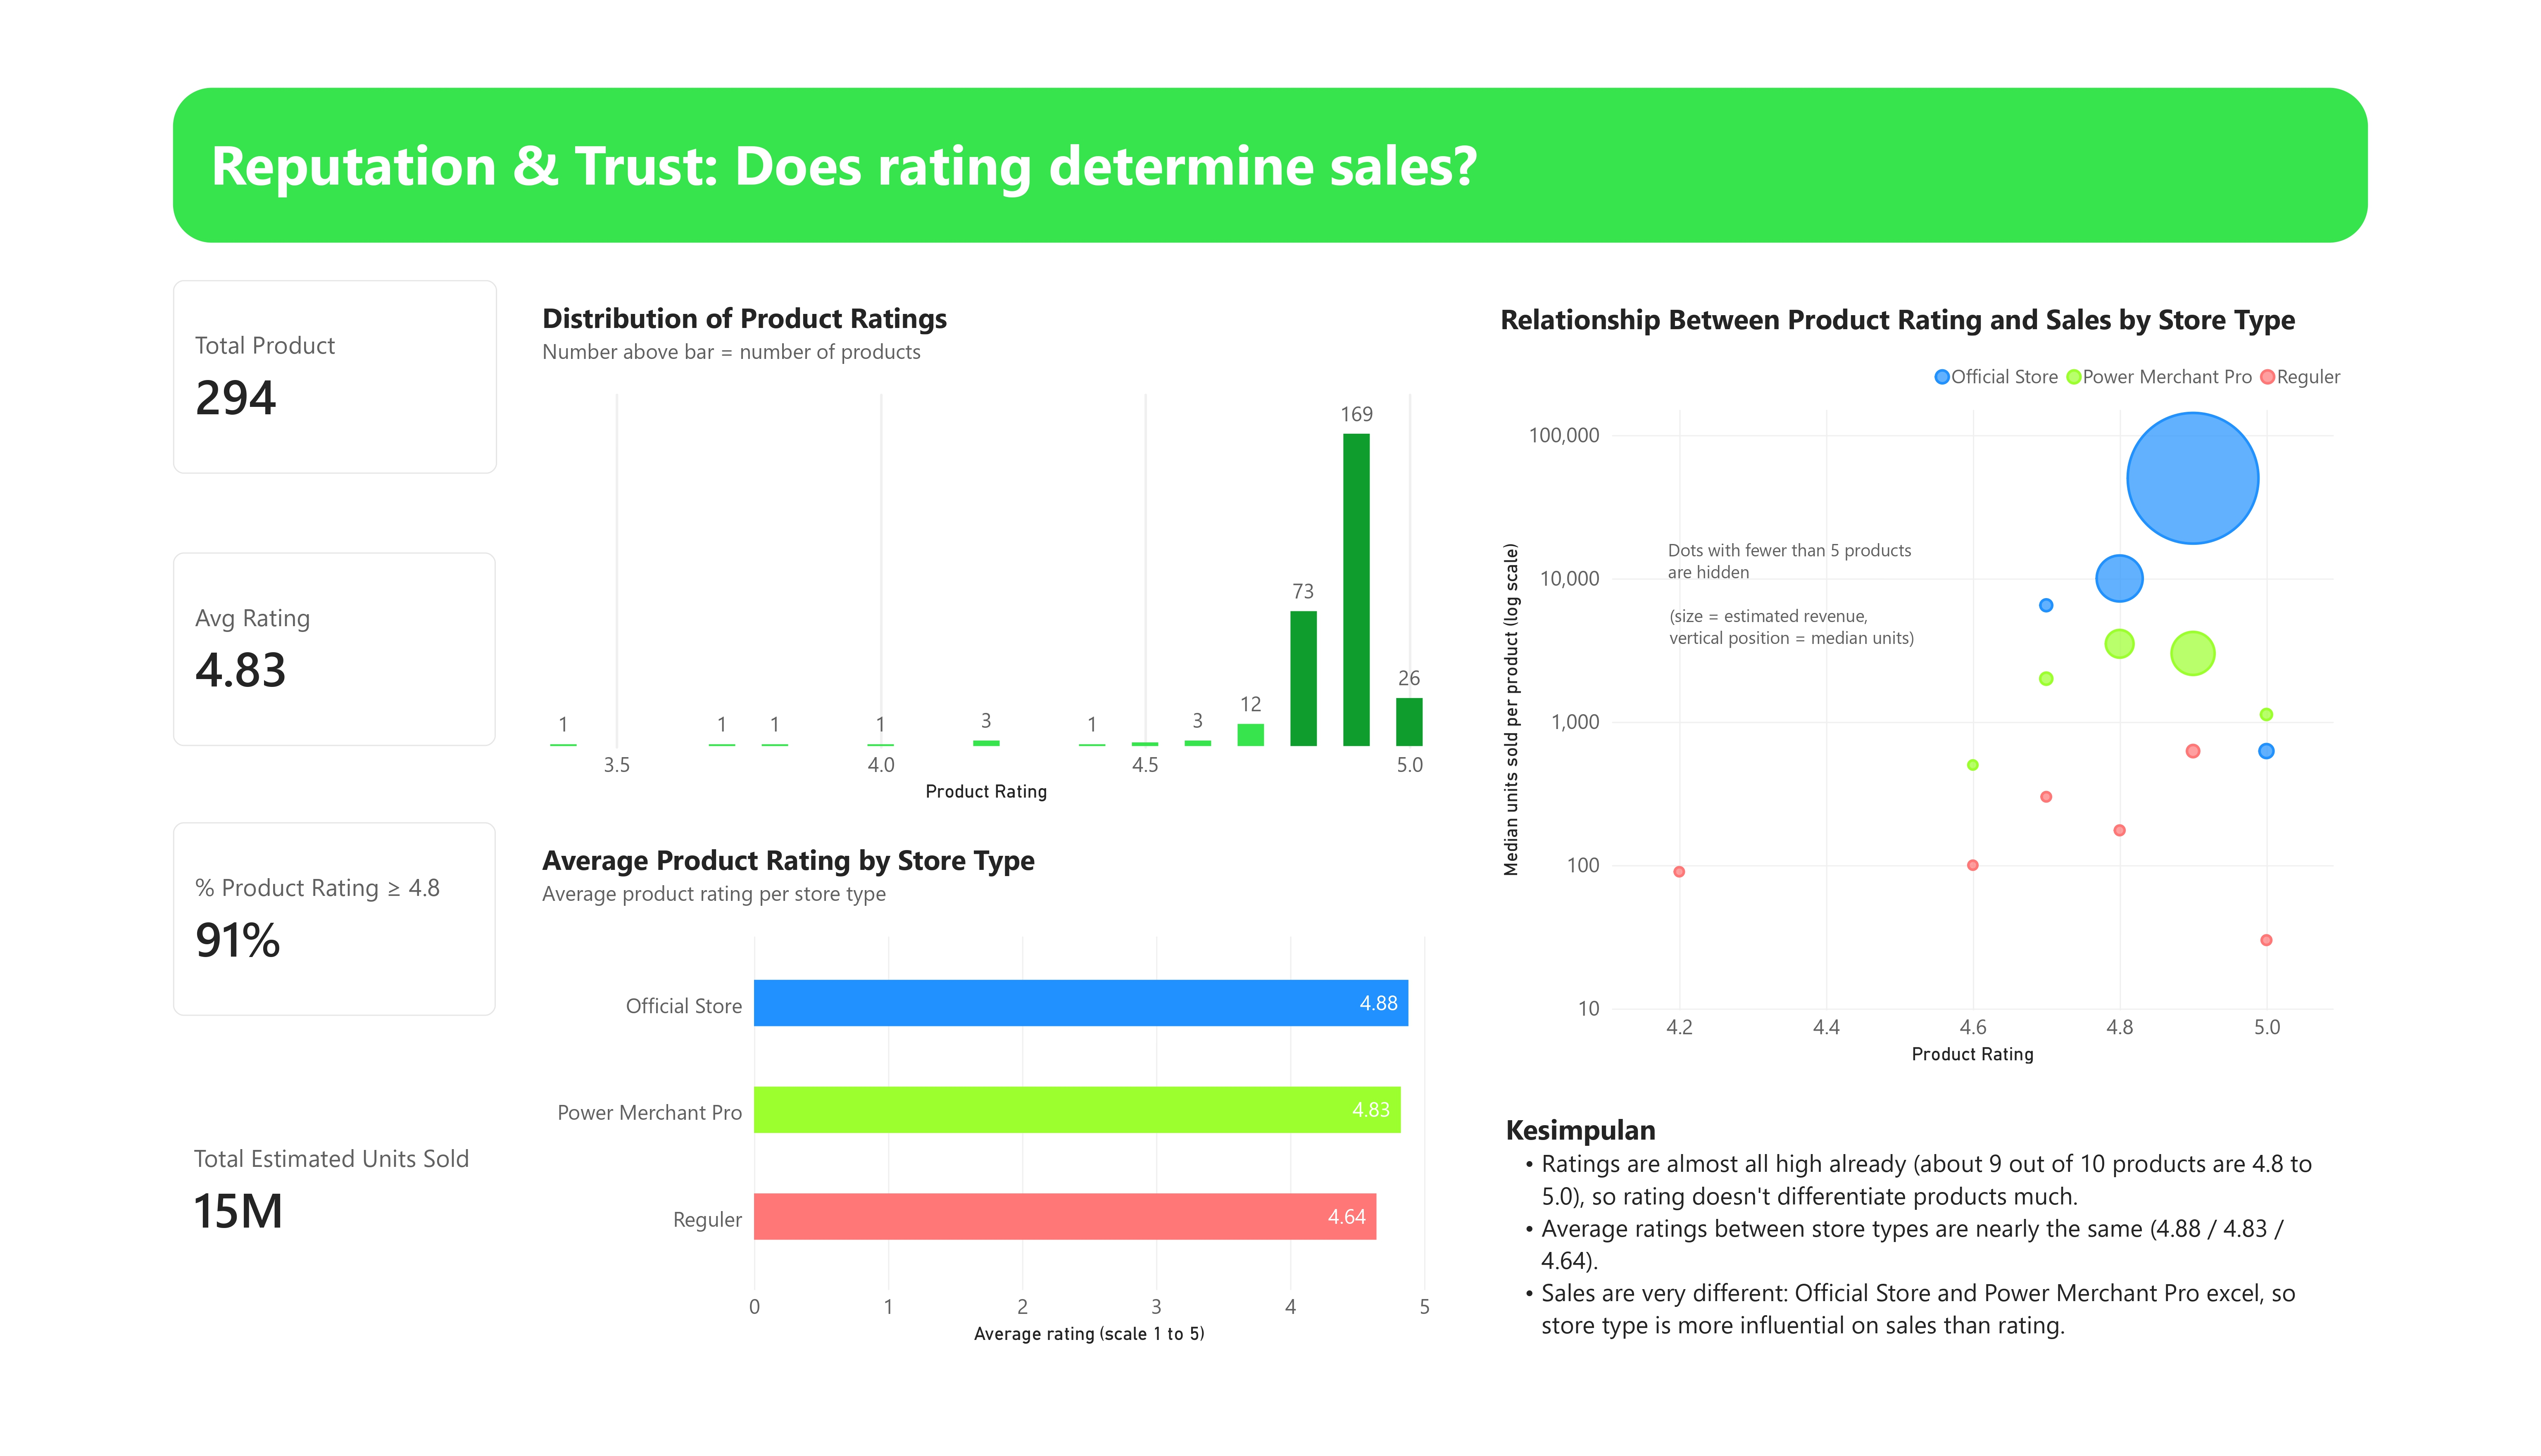

The dashboard page shown, as its layout file describes it:
{"tool":"powerbi","page":{"name":"RQ2","canvas":[1920,1080],"ordinal":1},"visuals":[{"type":"shape","box":[110,44,1700,120],"z":0},{"type":"columnChart","title":"Distribution of Product Ratings","fields":{"Category":["clean_skincare.rating"],"Y":["CountNonNull(clean_skincare.product_name)"]},"box":[380.4,193.1,719.3,420],"z":1000},{"type":"clusteredBarChart","title":"Average Product Rating by Store Type","fields":{"Category":["clean_skincare.shop_badge"],"Y":["Avg(clean_skincare.rating)"]},"box":[380.4,612.9,719.3,420],"z":2000},{"type":"group","id":"g1","title":"Group 2","box":[1122,194,688,622],"z":3000},{"type":"cardVisual","fields":{"Data":["clean_skincare.Total Product"]},"box":[110.4,193.1,250.3,150],"z":4000},{"type":"cardVisual","fields":{"Data":["clean_skincare.Avg Rating"]},"box":[110.4,404,250,150],"z":5000},{"type":"scatterChart","title":"Relationship Between Product Rating and Sales by Store Type","fields":{"Series":["clean_skincare.shop_badge"],"Size":["Sum(clean_skincare.estimated_revenue)"],"X":["clean_skincare.rating"],"Y":["clean_skincare.estimated_sold"]},"box":[1122,194,688,622],"z":6000,"group":"g1"},{"type":"cardVisual","fields":{"Data":["clean_skincare.% Rating Tinggi"]},"box":[110.4,612.9,250,150],"z":6000},{"type":"shape","box":[1252,366.3,228,87.6],"z":7000,"group":"g2"},{"type":"cardVisual","fields":{"Data":["clean_skincare.Total Est. Sold"]},"box":[110.4,823.8,250,150],"z":7000},{"type":"shape","box":[1253.4,424.5,227.1,72.9],"z":8000,"group":"g2"},{"type":"textbox","box":[1122,816,688,220],"z":8000},{"type":"group","id":"g2","title":"Group 1","box":[1252,366.3,228.6,131],"z":8001,"group":"g1"}]}

Visuals, with their boxes on the page's 1920x1080 design canvas (x1, y1, x2, y2). These are canvas units, not pixel positions in the 2541x1456 screenshot, which may show the page scaled, cropped or inside an application window:
shape: <bbox>110, 44, 1810, 164</bbox>
"Distribution of Product Ratings" columnChart: <bbox>380, 193, 1100, 613</bbox>
"Average Product Rating by Store Type" clusteredBarChart: <bbox>380, 613, 1100, 1033</bbox>
"Group 2" group: <bbox>1122, 194, 1810, 816</bbox>
cardVisual - clean_skincare.Total Product: <bbox>110, 193, 361, 343</bbox>
cardVisual - clean_skincare.Avg Rating: <bbox>110, 404, 360, 554</bbox>
"Relationship Between Product Rating and Sales by Store Type" scatterChart: <bbox>1122, 194, 1810, 816</bbox>
cardVisual - clean_skincare.% Rating Tinggi: <bbox>110, 613, 360, 763</bbox>
shape: <bbox>1252, 366, 1480, 454</bbox>
cardVisual - clean_skincare.Total Est. Sold: <bbox>110, 824, 360, 974</bbox>
shape: <bbox>1253, 424, 1480, 497</bbox>
textbox: <bbox>1122, 816, 1810, 1036</bbox>
"Group 1" group: <bbox>1252, 366, 1481, 497</bbox>
